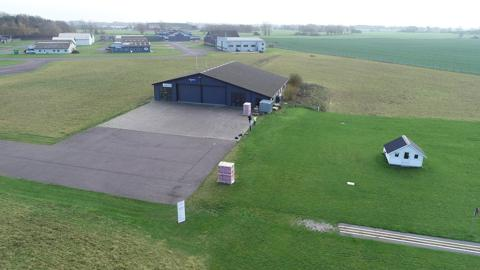RockwoolPallet: (218, 161, 236, 184)
